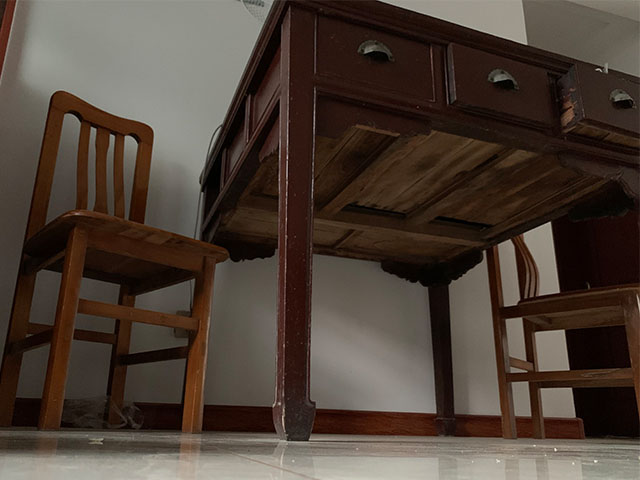stool: (1, 89, 232, 436), (485, 233, 640, 442)
table: (179, 1, 640, 442)
